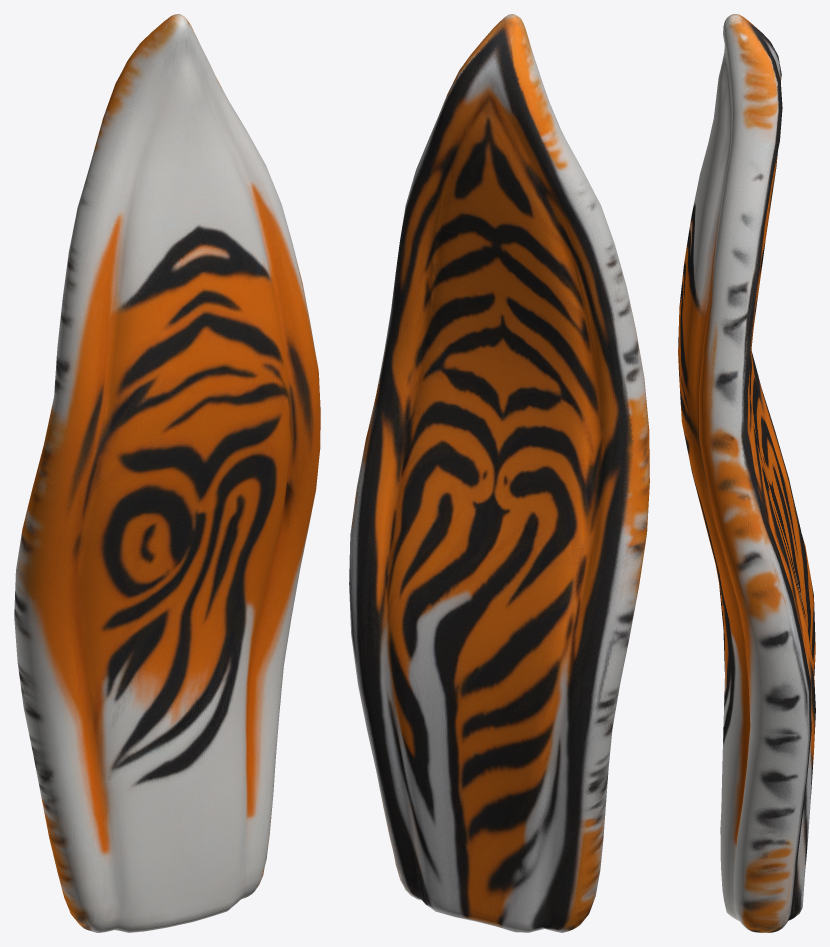
Rendered from T1_sanse_meshy5_1500_prompt2.glb.
The picture shows the model from 3 angles, left to right: view 1: azimuth 30°, elevation 25°; view 2: azimuth 150°, elevation 25°; view 3: azimuth 270°, elevation 25°; orthographic projection. The views are drawn at different scales.
Bounding box in the file's own units: 0.6589 × 2 × 0.2835.
1 material, 1 textured.
